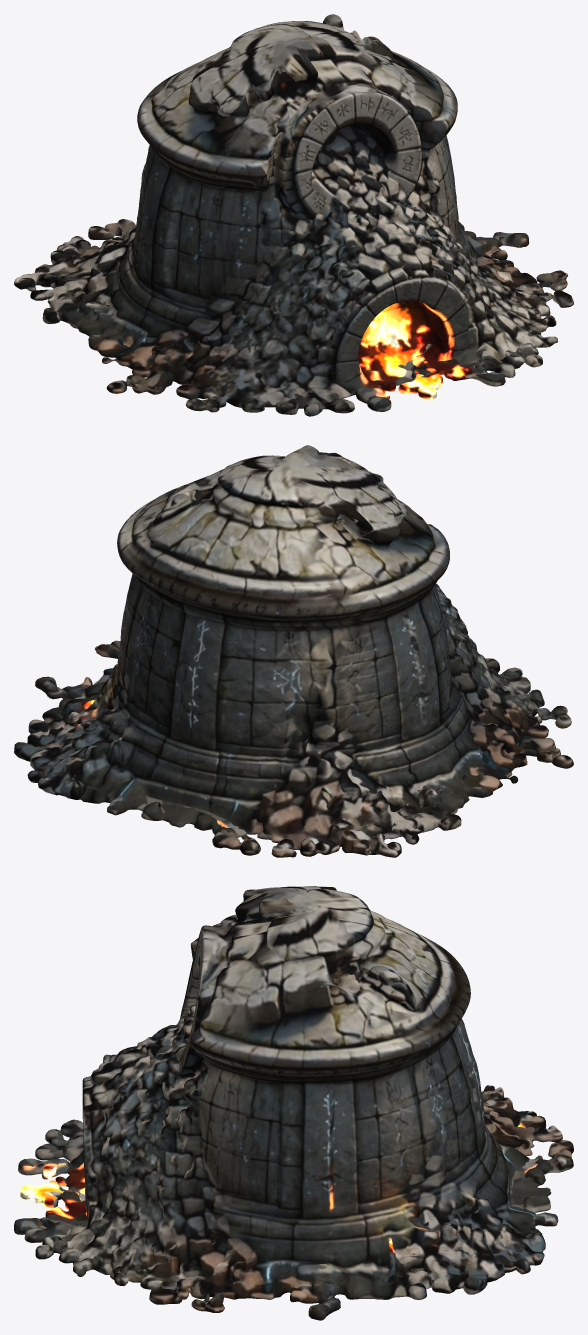
Rendered from struct_collapsed_furnace.glb.
The picture shows the model from 3 angles, top to bottom: view 1: azimuth 30°, elevation 25°; view 2: azimuth 150°, elevation 25°; view 3: azimuth 270°, elevation 25°; orthographic projection. The views are drawn at different scales.
Visible parts, largest first — view 1: geometry_0; view 2: geometry_0; view 3: geometry_0.
Boxes of the visible parts, bbox=[...] form: geometry_0: bbox=[14, 14, 573, 416]; geometry_0: bbox=[14, 445, 573, 857]; geometry_0: bbox=[14, 886, 573, 1320].
Size of the model in its own units: 15.26 by 8.5 by 14.54.
Materials: 1 (1 with a texture image).
